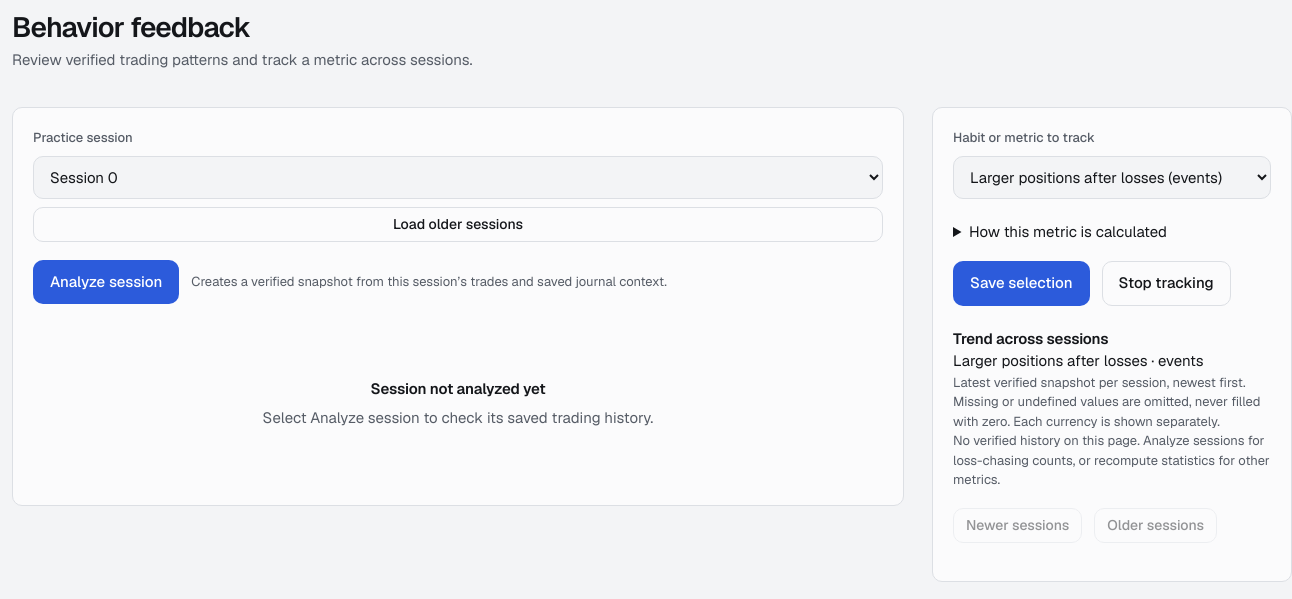
feedback workflow › keeps tracking available when older sessions fail and allows retry
The image size is (1292, 599).
Click the button "Load older sessions".
click(458, 224)  # box [33,207,883,242]
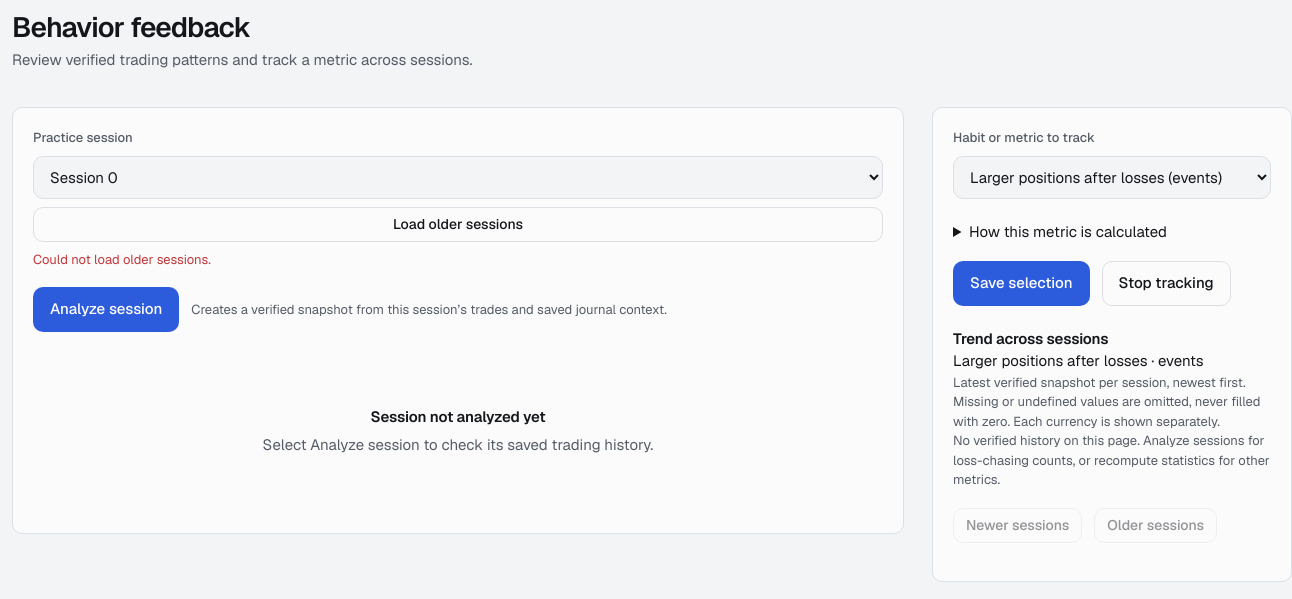
Expected: the button "Stop tracking" is shown, [1102,261,1231,306]
Expected: the text "Could not load older sessions." is shown, [33,251,211,268]
Click the button "Load older sessions".
click(458, 224)  # box [33,207,883,242]
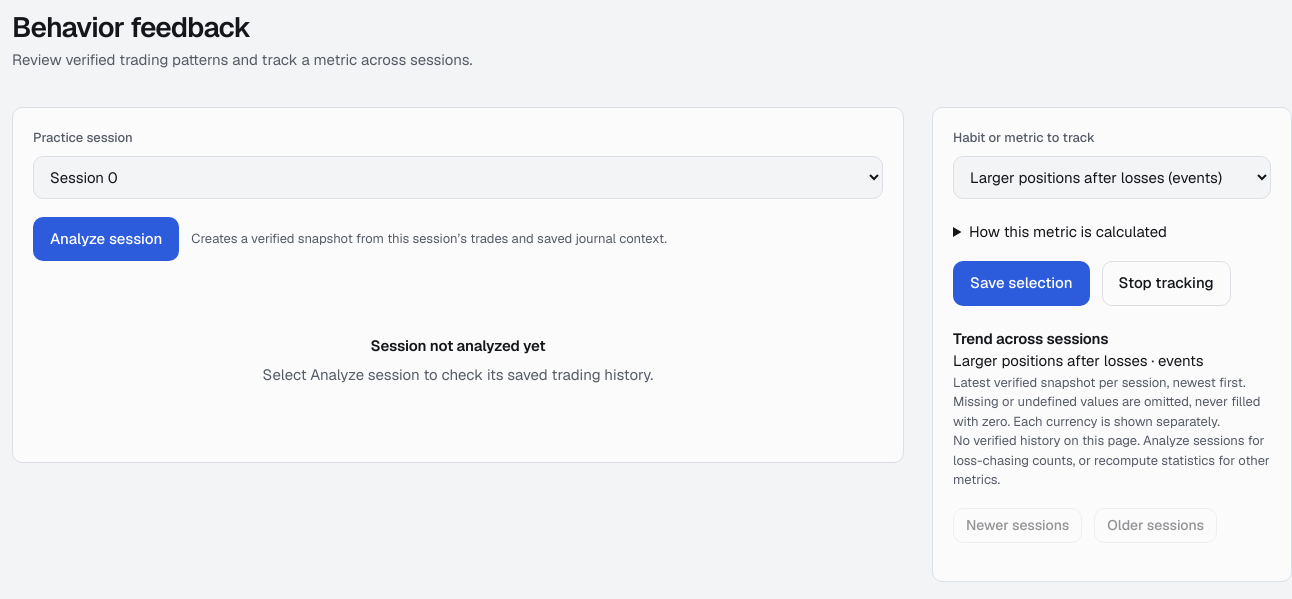
Expected: the text "Could not load older sessions." is gone
